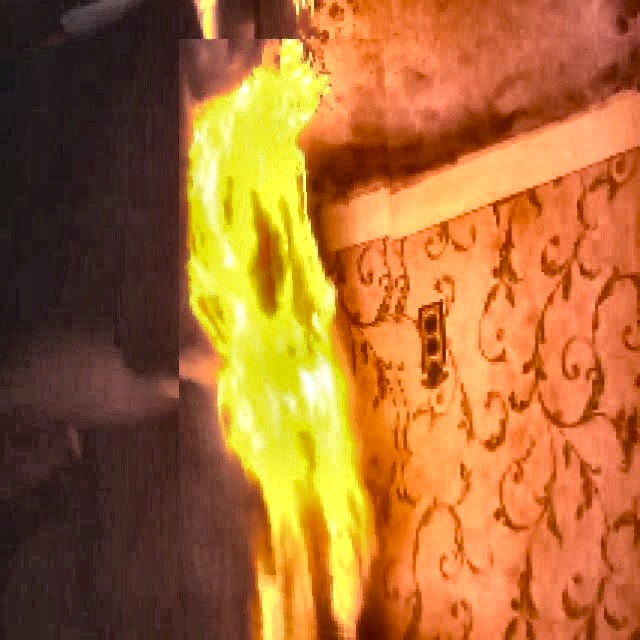fire: (168, 97, 410, 639)
